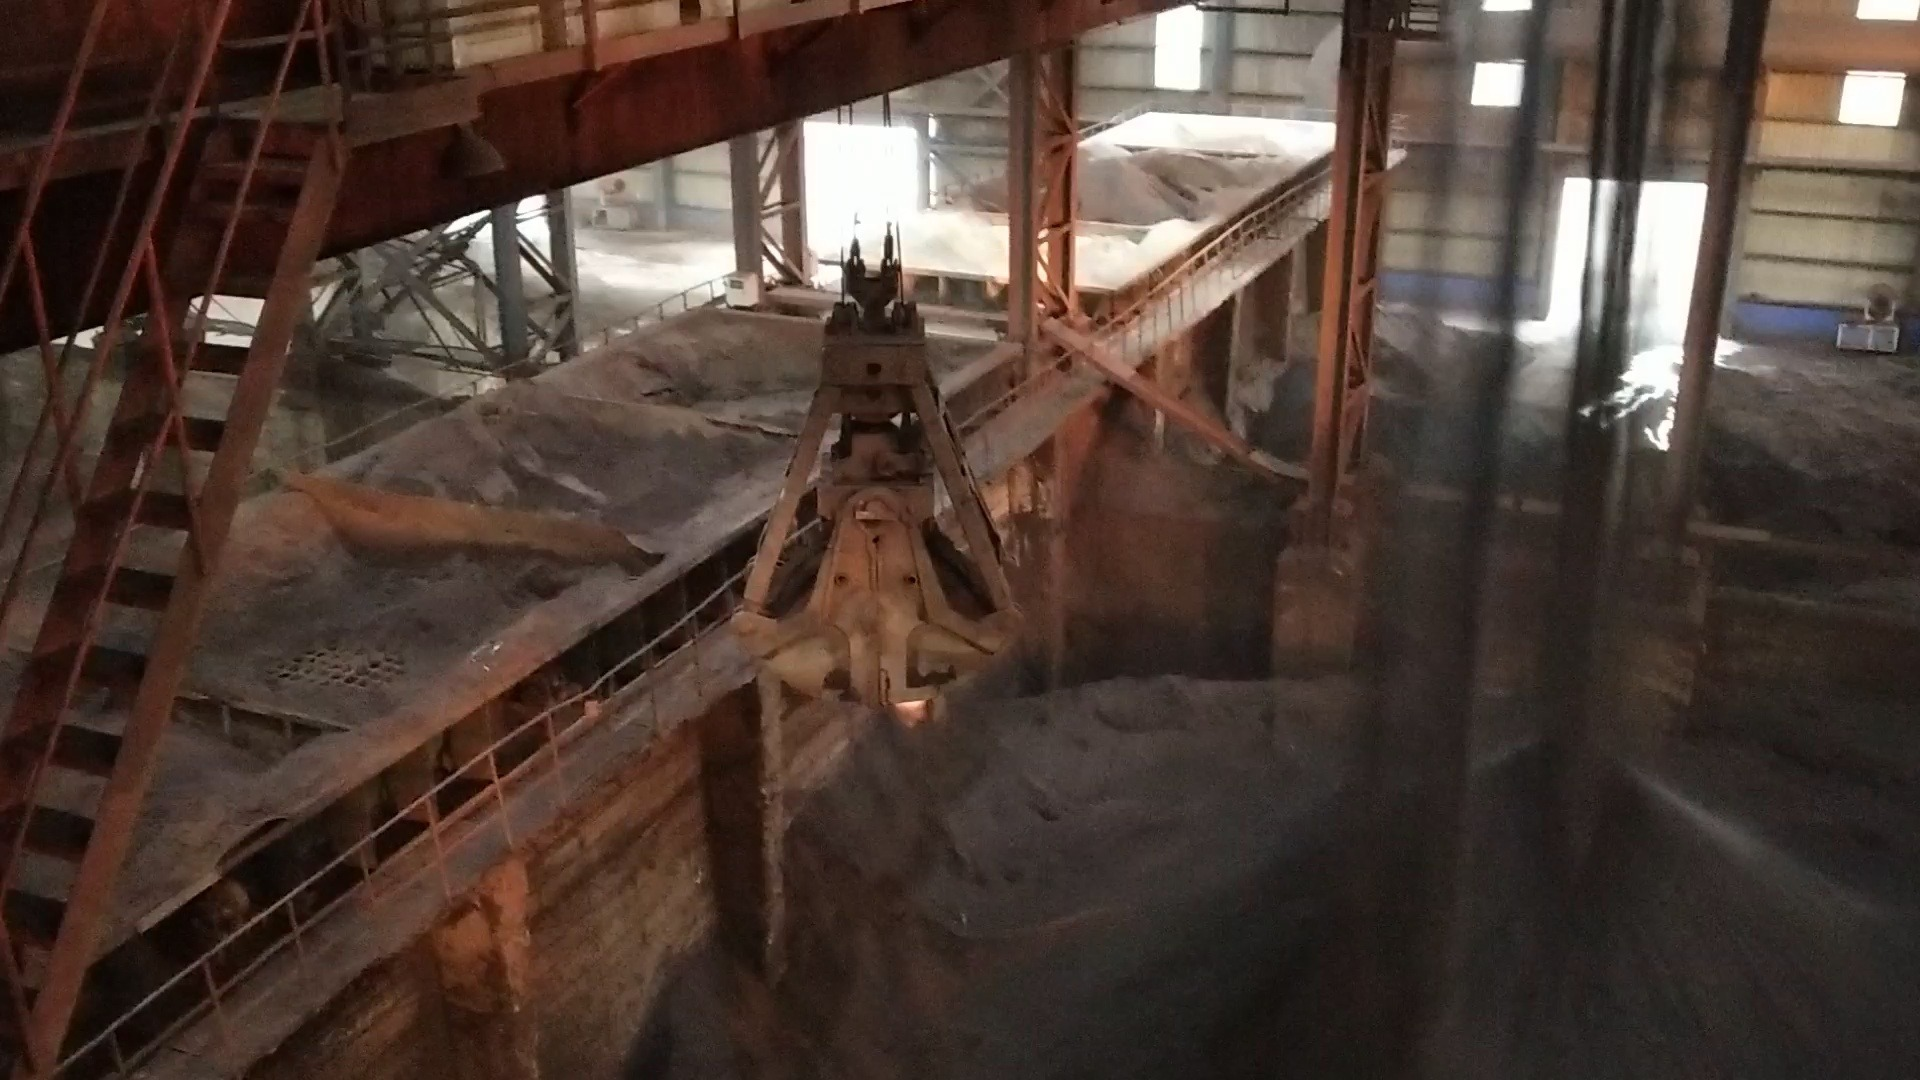grab: (716, 216, 1036, 711)
